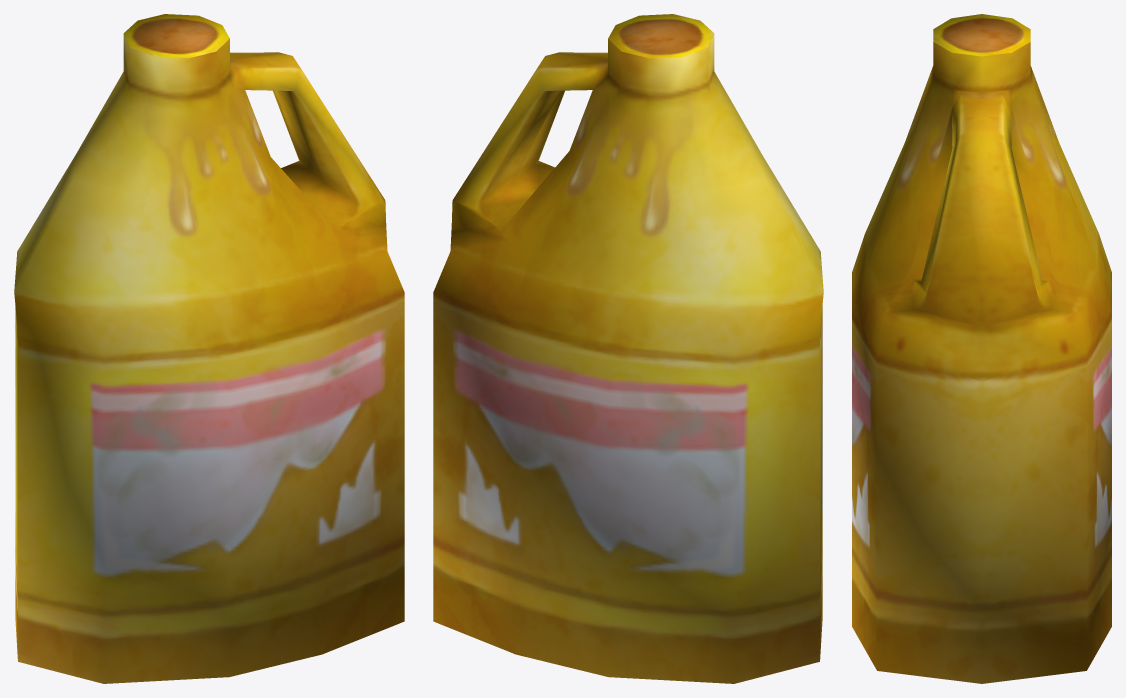
Rendered from 3D_recycle_trash_plastic01.FBX.
3 renders of one model, left to right at view 1: azimuth 30°, elevation 25°; view 2: azimuth 150°, elevation 25°; view 3: azimuth 270°, elevation 25°, orthographic. The views are drawn at different scales.
Parts seen in each view (by area): view 1: 3D_recycle_trash_plastic01; view 2: 3D_recycle_trash_plastic01; view 3: 3D_recycle_trash_plastic01.
Part boxes in pixels (box(x1,y1,x2,y2)): 3D_recycle_trash_plastic01: box(14, 14, 404, 683); 3D_recycle_trash_plastic01: box(433, 14, 823, 683); 3D_recycle_trash_plastic01: box(852, 14, 1111, 683).
Bounding box in the file's own units: 0.7639 × 1.18 × 0.4998.
